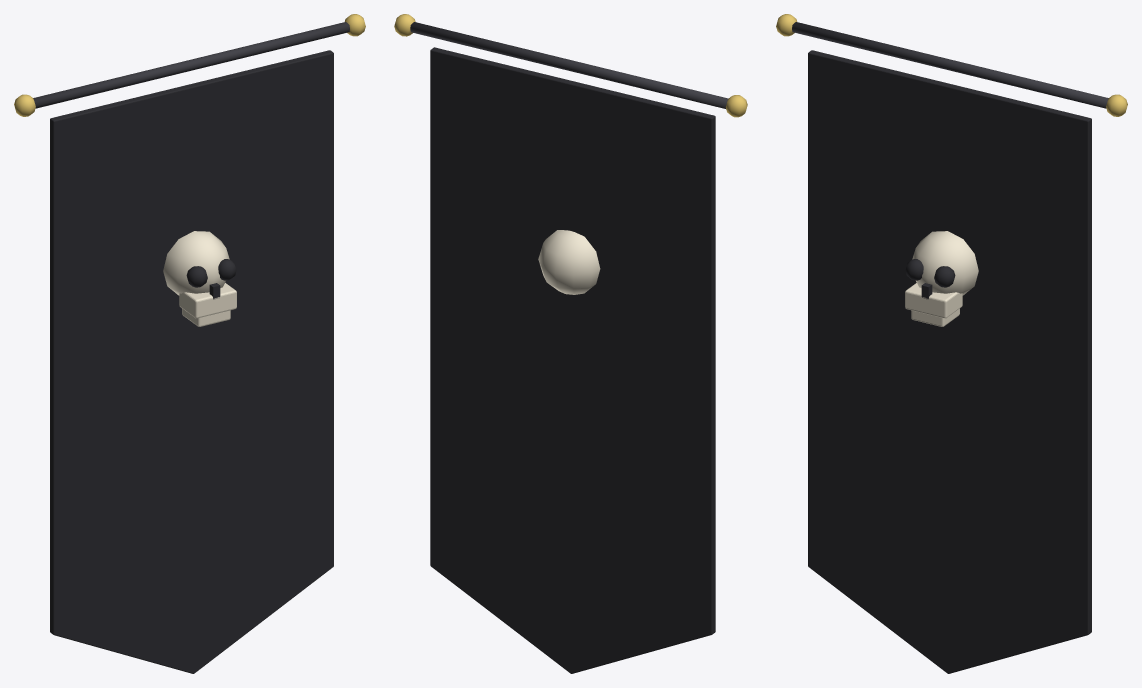
Rendered from banner_black_skull.glb.
3 views of the same model, side by side, from view 1: azimuth 30°, elevation 25°; view 2: azimuth 150°, elevation 25°; view 3: azimuth 330°, elevation 25° (orthographic).
Parts seen in each view (by area): view 1: GD_banner_black_skull__m3, GD_banner_black_skull__m4, GD_banner_black_skull__m0, GD_banner_black_skull__m1; view 2: GD_banner_black_skull__m3, GD_banner_black_skull__m0, GD_banner_black_skull__m4, GD_banner_black_skull__m1; view 3: GD_banner_black_skull__m3, GD_banner_black_skull__m4, GD_banner_black_skull__m0, GD_banner_black_skull__m1.
Part boxes in pixels (left/top/right/bottom): GD_banner_black_skull__m3: left=50, top=50, right=333, bottom=673; GD_banner_black_skull__m4: left=163, top=231, right=236, bottom=326; GD_banner_black_skull__m0: left=33, top=22, right=349, bottom=108; GD_banner_black_skull__m1: left=14, top=14, right=365, bottom=116; GD_banner_black_skull__m3: left=430, top=47, right=715, bottom=673; GD_banner_black_skull__m0: left=410, top=22, right=728, bottom=108; GD_banner_black_skull__m4: left=538, top=230, right=600, bottom=294; GD_banner_black_skull__m1: left=394, top=14, right=747, bottom=117; GD_banner_black_skull__m3: left=808, top=50, right=1091, bottom=673; GD_banner_black_skull__m4: left=905, top=231, right=978, bottom=326; GD_banner_black_skull__m0: left=792, top=22, right=1108, bottom=108; GD_banner_black_skull__m1: left=776, top=14, right=1127, bottom=116.
Bounding box in the file's own units: 0.996 × 1.68 × 0.2112.
